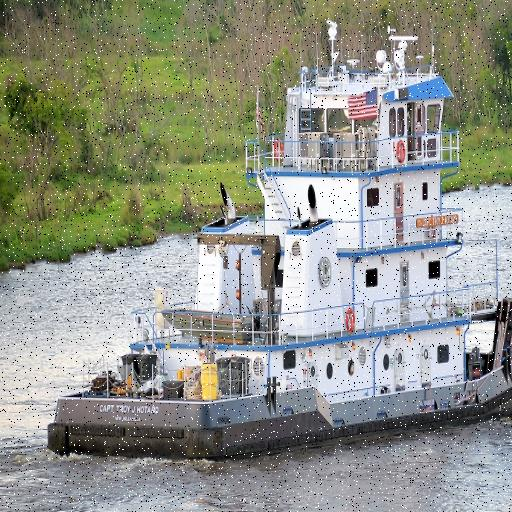tugboat: (42, 16, 512, 467)
